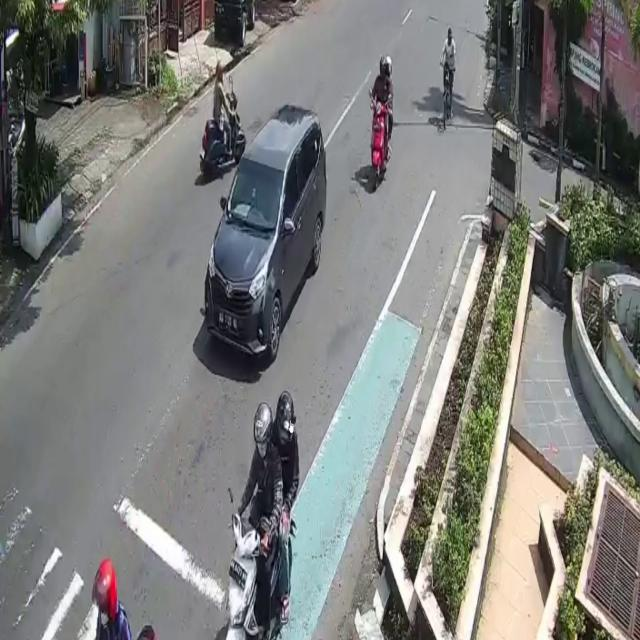bus: (227, 511, 296, 640), (200, 94, 246, 174), (370, 94, 390, 190)
motorcycle: (204, 104, 327, 362)
